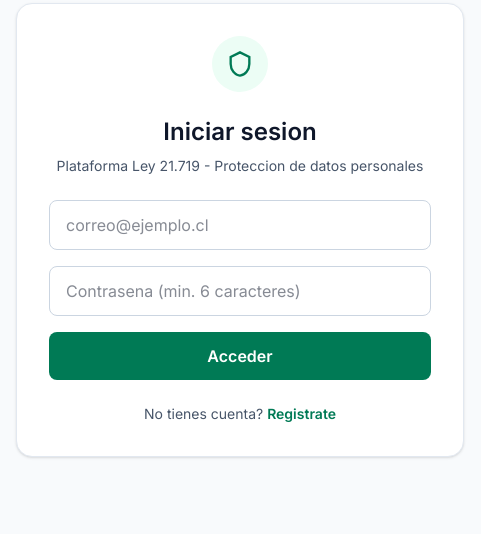
Test: InsForgeAuth component › muestra error del servidor si las credenciales son incorrectas
Step 1. Type "estudiante@example.cl" into the field with placeholder "correo@ejemplo.cl" → (240, 225), box 49,200 -> 431,250
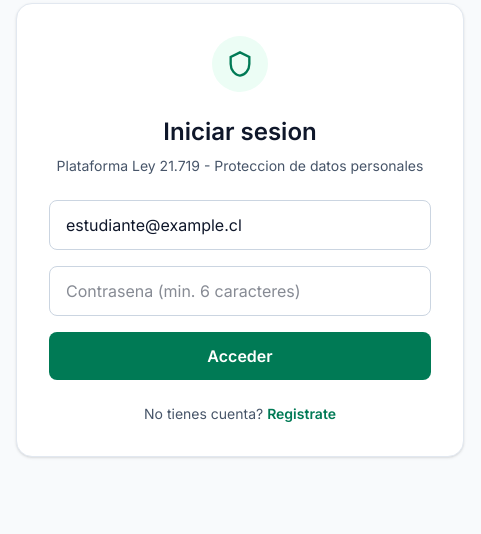
Step 2. Type "clave-mala" into the password field with placeholder "Contrasena (min. 6 caracteres)" → (240, 291), box 49,266 -> 431,316
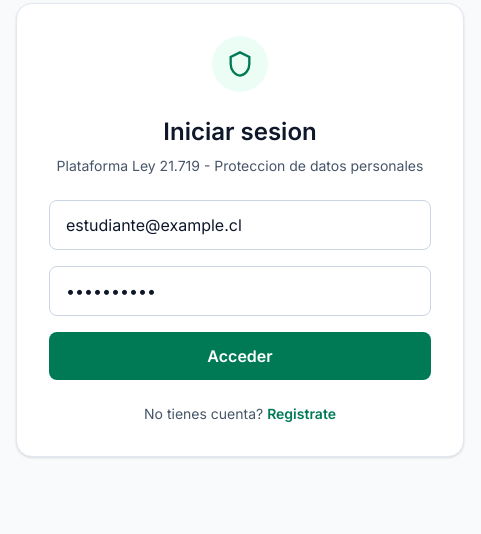
Step 3. Click the button "Acceder" → (240, 356), box 49,332 -> 431,380
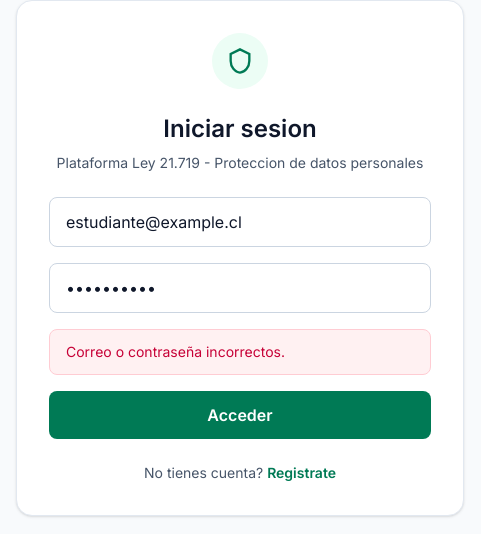
Expected: the message reads "Correo o contraseña incorrectos.", 66,343 -> 285,360
